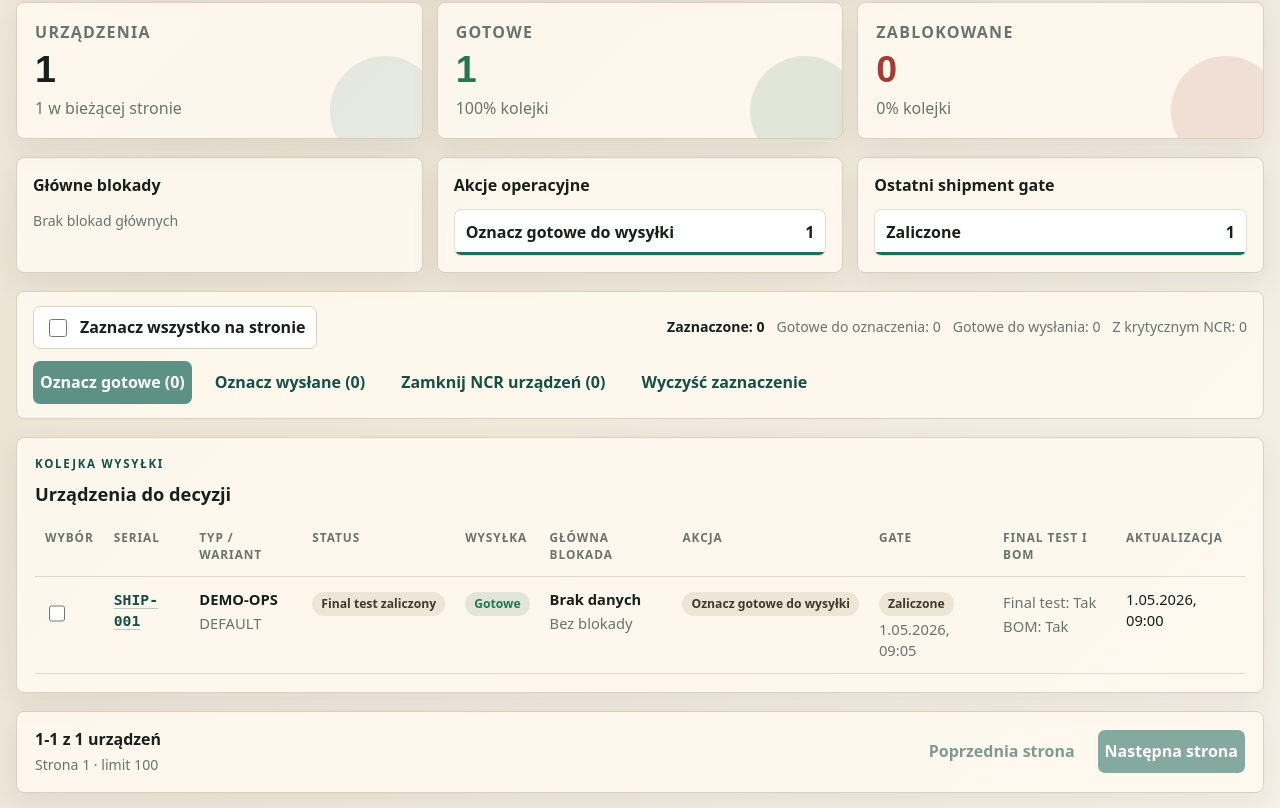
Test: App › marks device as ready for shipment from the details drawer
(page scrolled)
What coordinates should you click on to do the following:
click the button "SHIP-001"
I would click on:
 (146, 610)
Its box is [114,588,179,631].
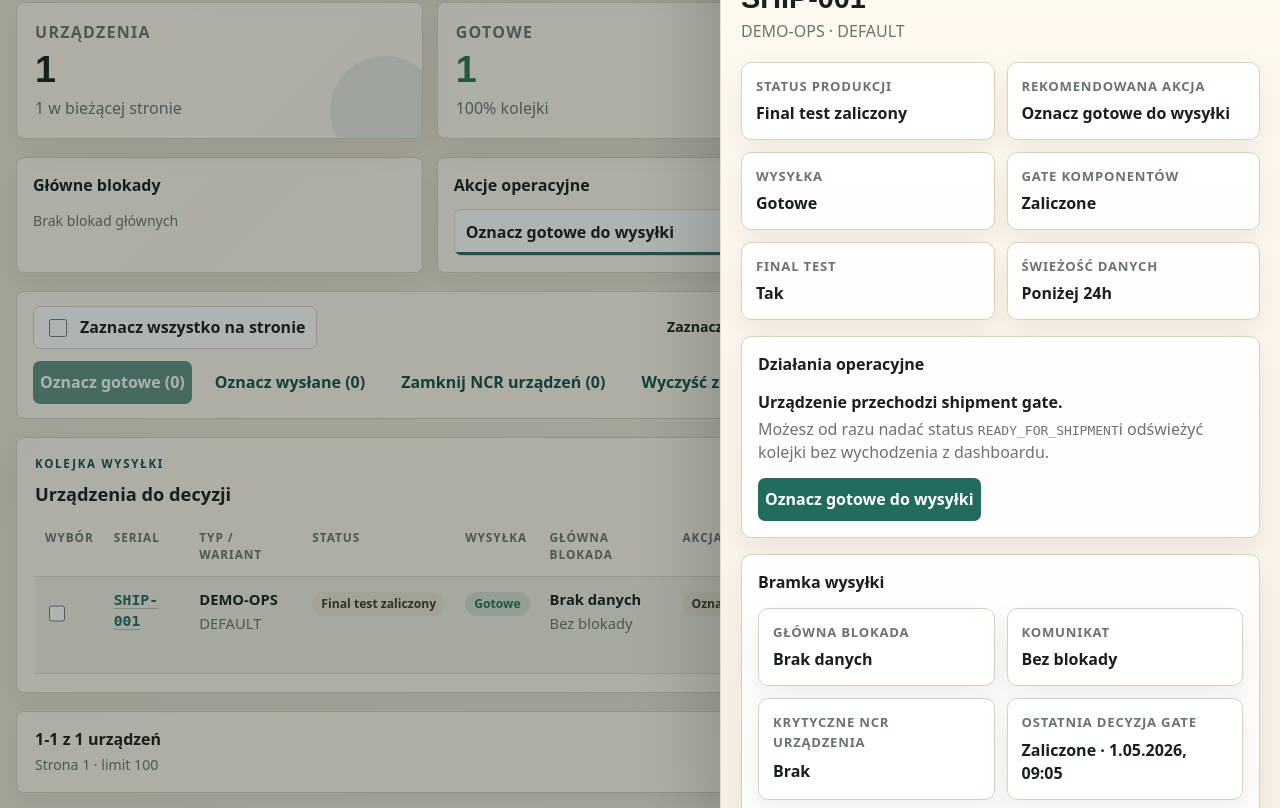
What coordinates should you click on to do the following:
click the button "Oznacz gotowe do wysyłki"
I would click on:
 (869, 500)
Its box is [758,478,980,521].
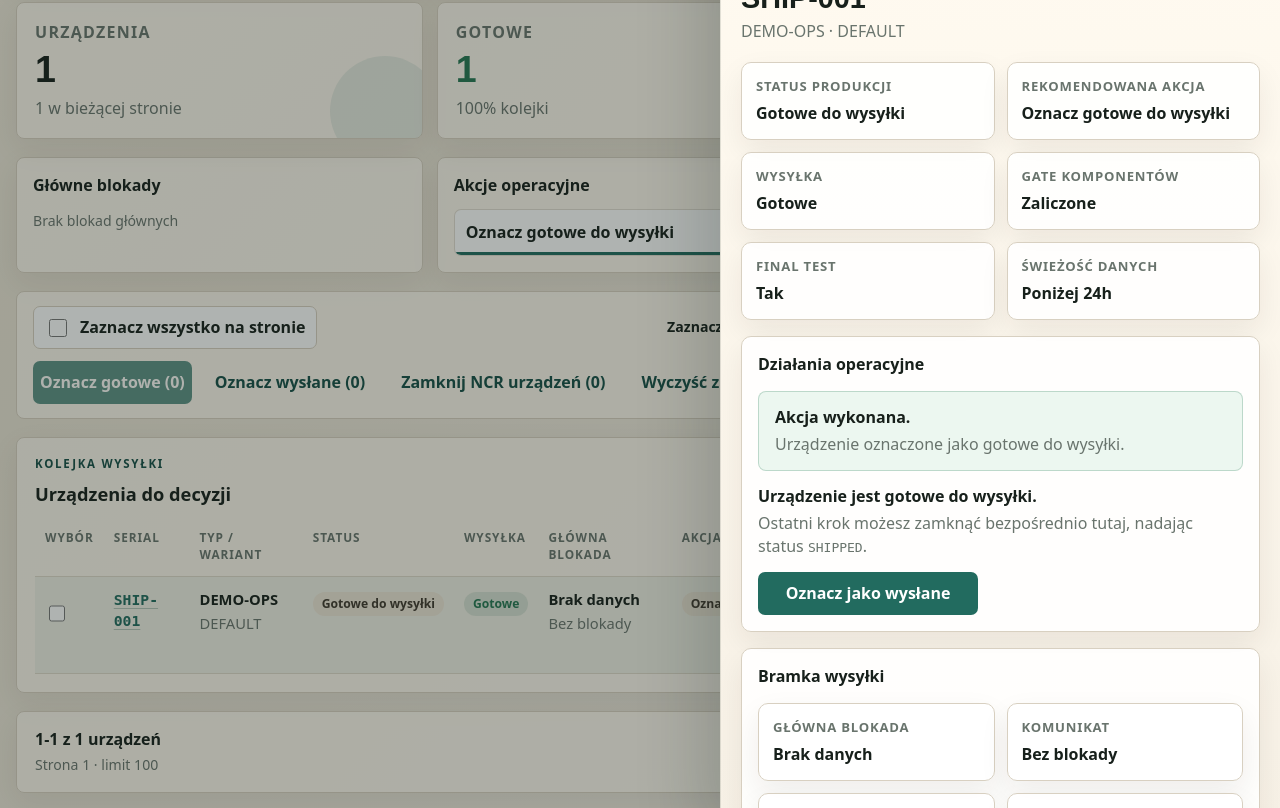
Check: the text "Urządzenie oznaczone jako gotowe do wysyłki." is shown, box [775,433,1124,455]
